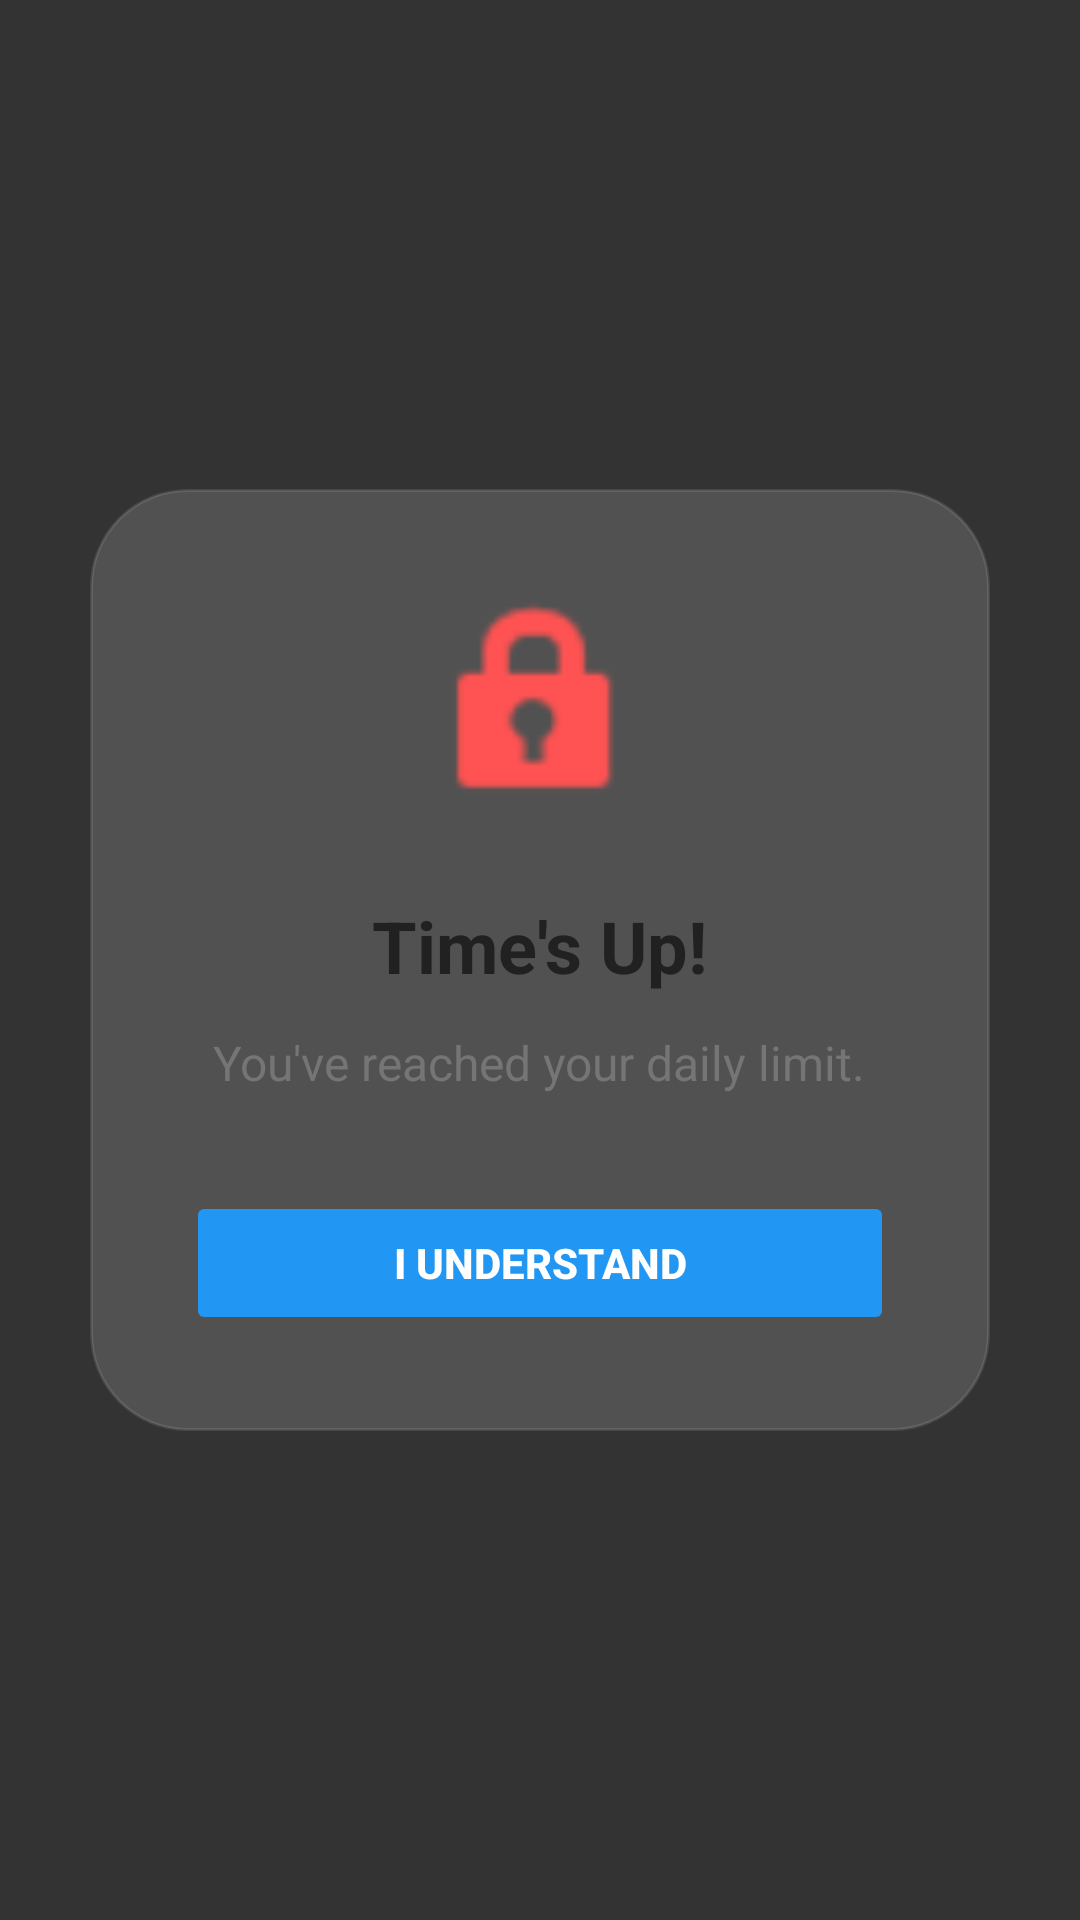

Point at icon controls on the screen. Image size 1080 x 1920, points as (x,y).
Lock Icon: (534,697)
